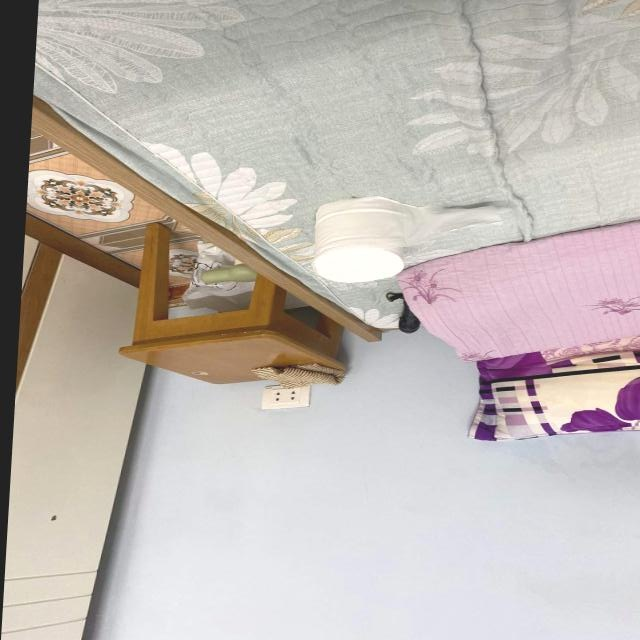outlet: (260, 385, 311, 411)
